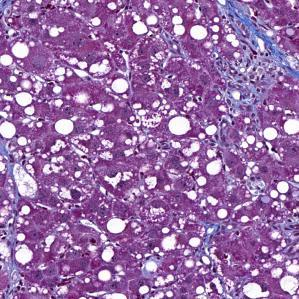fibrosis: (219, 6, 290, 114)
